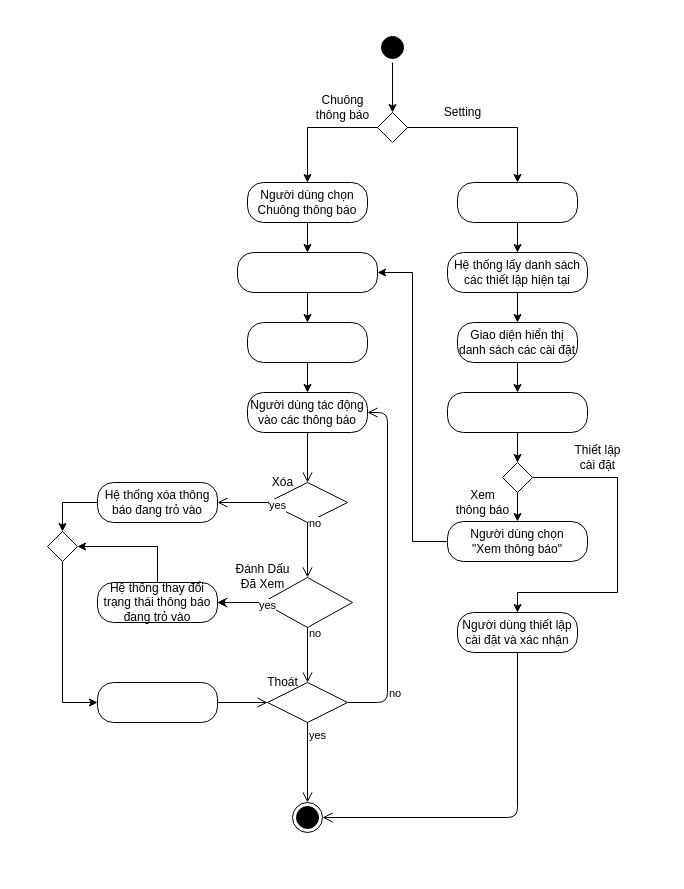
Image size: 684x889. Some labels were removed from this diagram. The centre of each missing label's shape, as x and y in pixels:
Giao diện hiển thị danh sách thông báo: the point at 307,342
Hệ thống cập nhập danh sách thông báo: the point at 157,702
Hệ thống lấy danh sách toàn bộ thông báo: the point at 307,272
Người dùng chọn "Setting": the point at 517,202
Người dùng chọn "UserNotification": the point at 517,412
